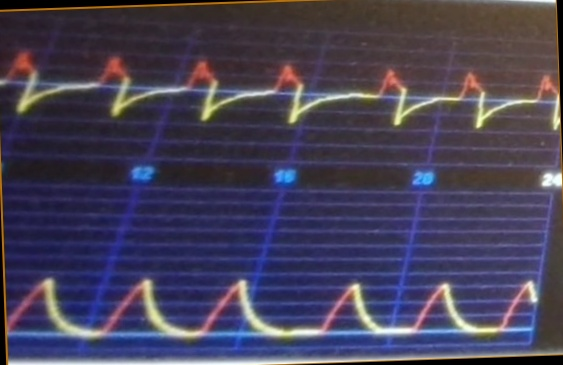Accumulation Flow: (1, 39, 558, 144)
Volume: (10, 251, 538, 348)
